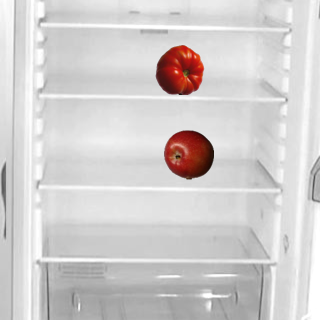Apple Braeburn: (163, 129, 213, 179)
Tomato 3: (154, 44, 204, 94)
